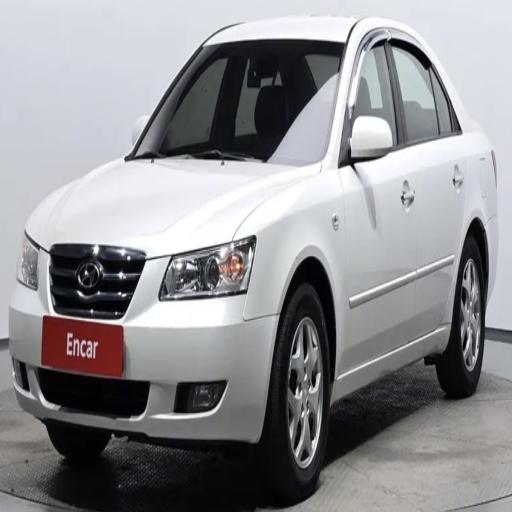normal: (8, 8, 510, 490)
